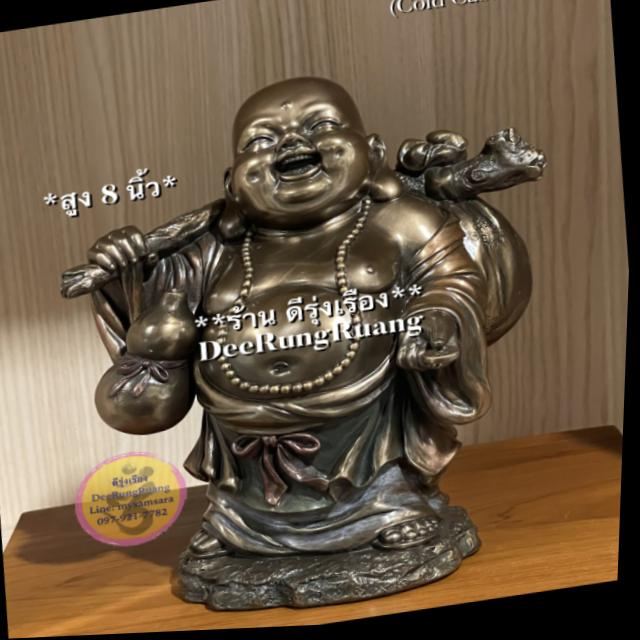Smiling Buddha: (111, 49, 491, 485)
